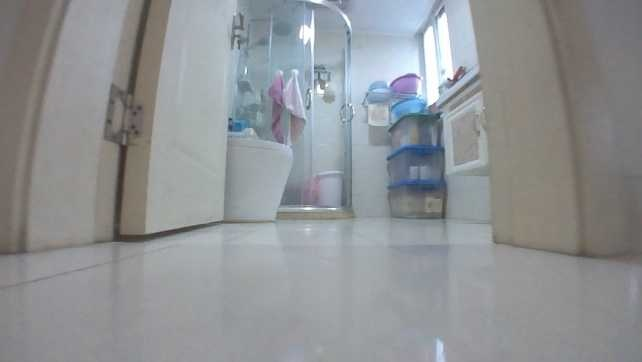door_anno: (1, 0, 246, 256)
toilet: (224, 130, 295, 224)
